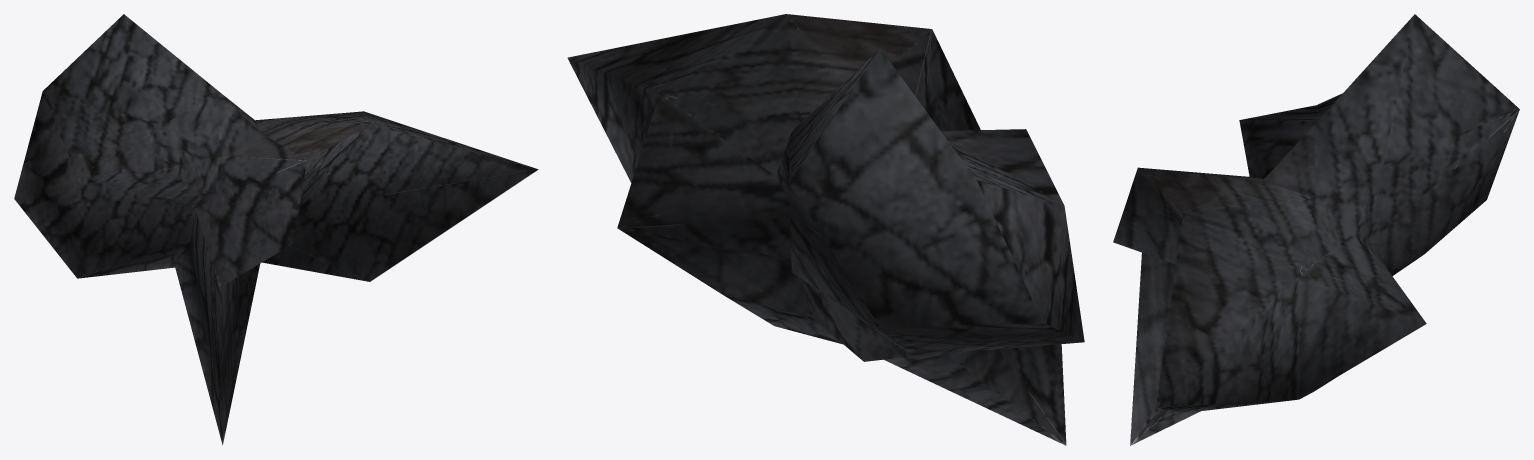
The model's file is Stein_2.fbx.
3 views of the same model, side by side, from view 1: azimuth 30°, elevation 25°; view 2: azimuth 150°, elevation 25°; view 3: azimuth 270°, elevation 25° (orthographic). The views are drawn at different scales.
Visible parts, largest first — view 1: Stein_2; view 2: Stein_2; view 3: Stein_2.
Boxes of the visible parts, x1,y1,x2,y2 form: Stein_2: (14, 14, 538, 445); Stein_2: (567, 14, 1084, 445); Stein_2: (1113, 14, 1519, 445).
Size of the model in its own units: 0.9282 by 0.7275 by 0.6094.
Materials: 1 (1 with a texture image).
